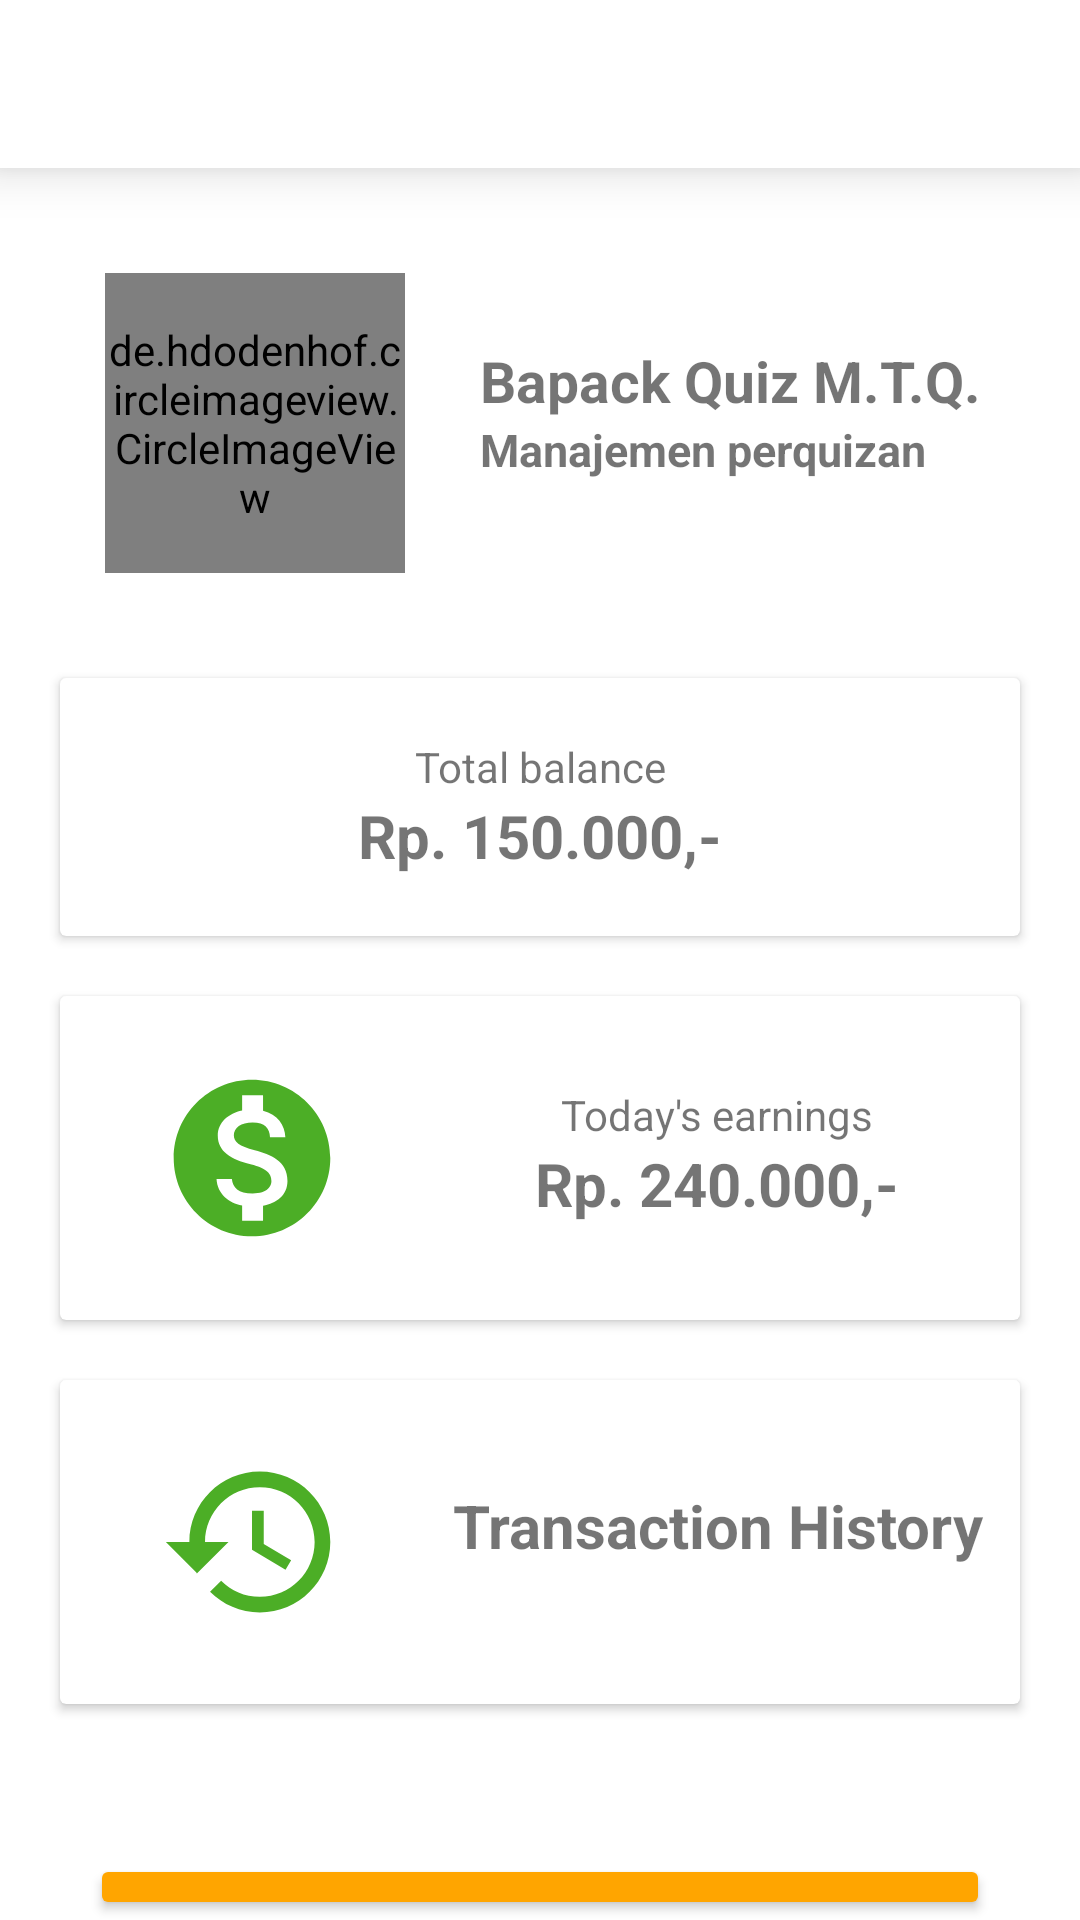

Locate icon controls on the screen. Image size 1080×1920, boxes as (x1,y1,x2,y2).
money: (173,1079,331,1237)
money history: (166,1471,331,1613)
